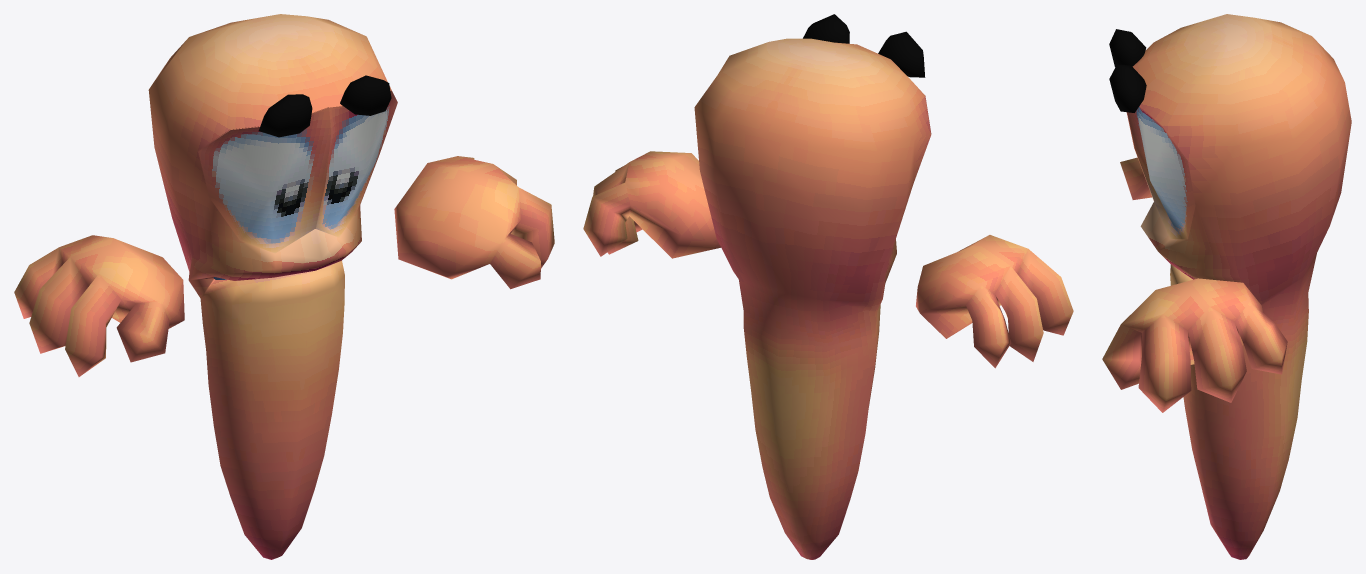
File: Worm.glb
3 views of the same model, side by side, from view 1: azimuth 30°, elevation 25°; view 2: azimuth 150°, elevation 25°; view 3: azimuth 270°, elevation 25° (orthographic). The views are drawn at different scales.
Parts seen in each view (by area): view 1: Inst3D_RefRep.221_Ref, Inst3D_RefRep.223_Ref, Inst3D_RefRep.225_Ref; view 2: Inst3D_RefRep.221_Ref, Inst3D_RefRep.223_Ref; view 3: Inst3D_RefRep.221_Ref, Inst3D_RefRep.223_Ref, Inst3D_RefRep.225_Ref.
Part boxes in pixels (x1=…): Inst3D_RefRep.221_Ref: x1=148, y1=14, x2=393, y2=559; Inst3D_RefRep.223_Ref: x1=14, y1=156, x2=554, y2=376; Inst3D_RefRep.225_Ref: x1=198, y1=90, x2=397, y2=253; Inst3D_RefRep.221_Ref: x1=694, y1=14, x2=931, y2=559; Inst3D_RefRep.223_Ref: x1=583, y1=151, x2=1073, y2=368; Inst3D_RefRep.221_Ref: x1=1109, y1=14, x2=1351, y2=559; Inst3D_RefRep.223_Ref: x1=1102, y1=157, x2=1287, y2=412; Inst3D_RefRep.225_Ref: x1=1126, y1=106, x2=1195, y2=239.
Size of the model in its own units: 4.03 by 4.18 by 1.8.
Materials: 4 (4 with a texture image).
